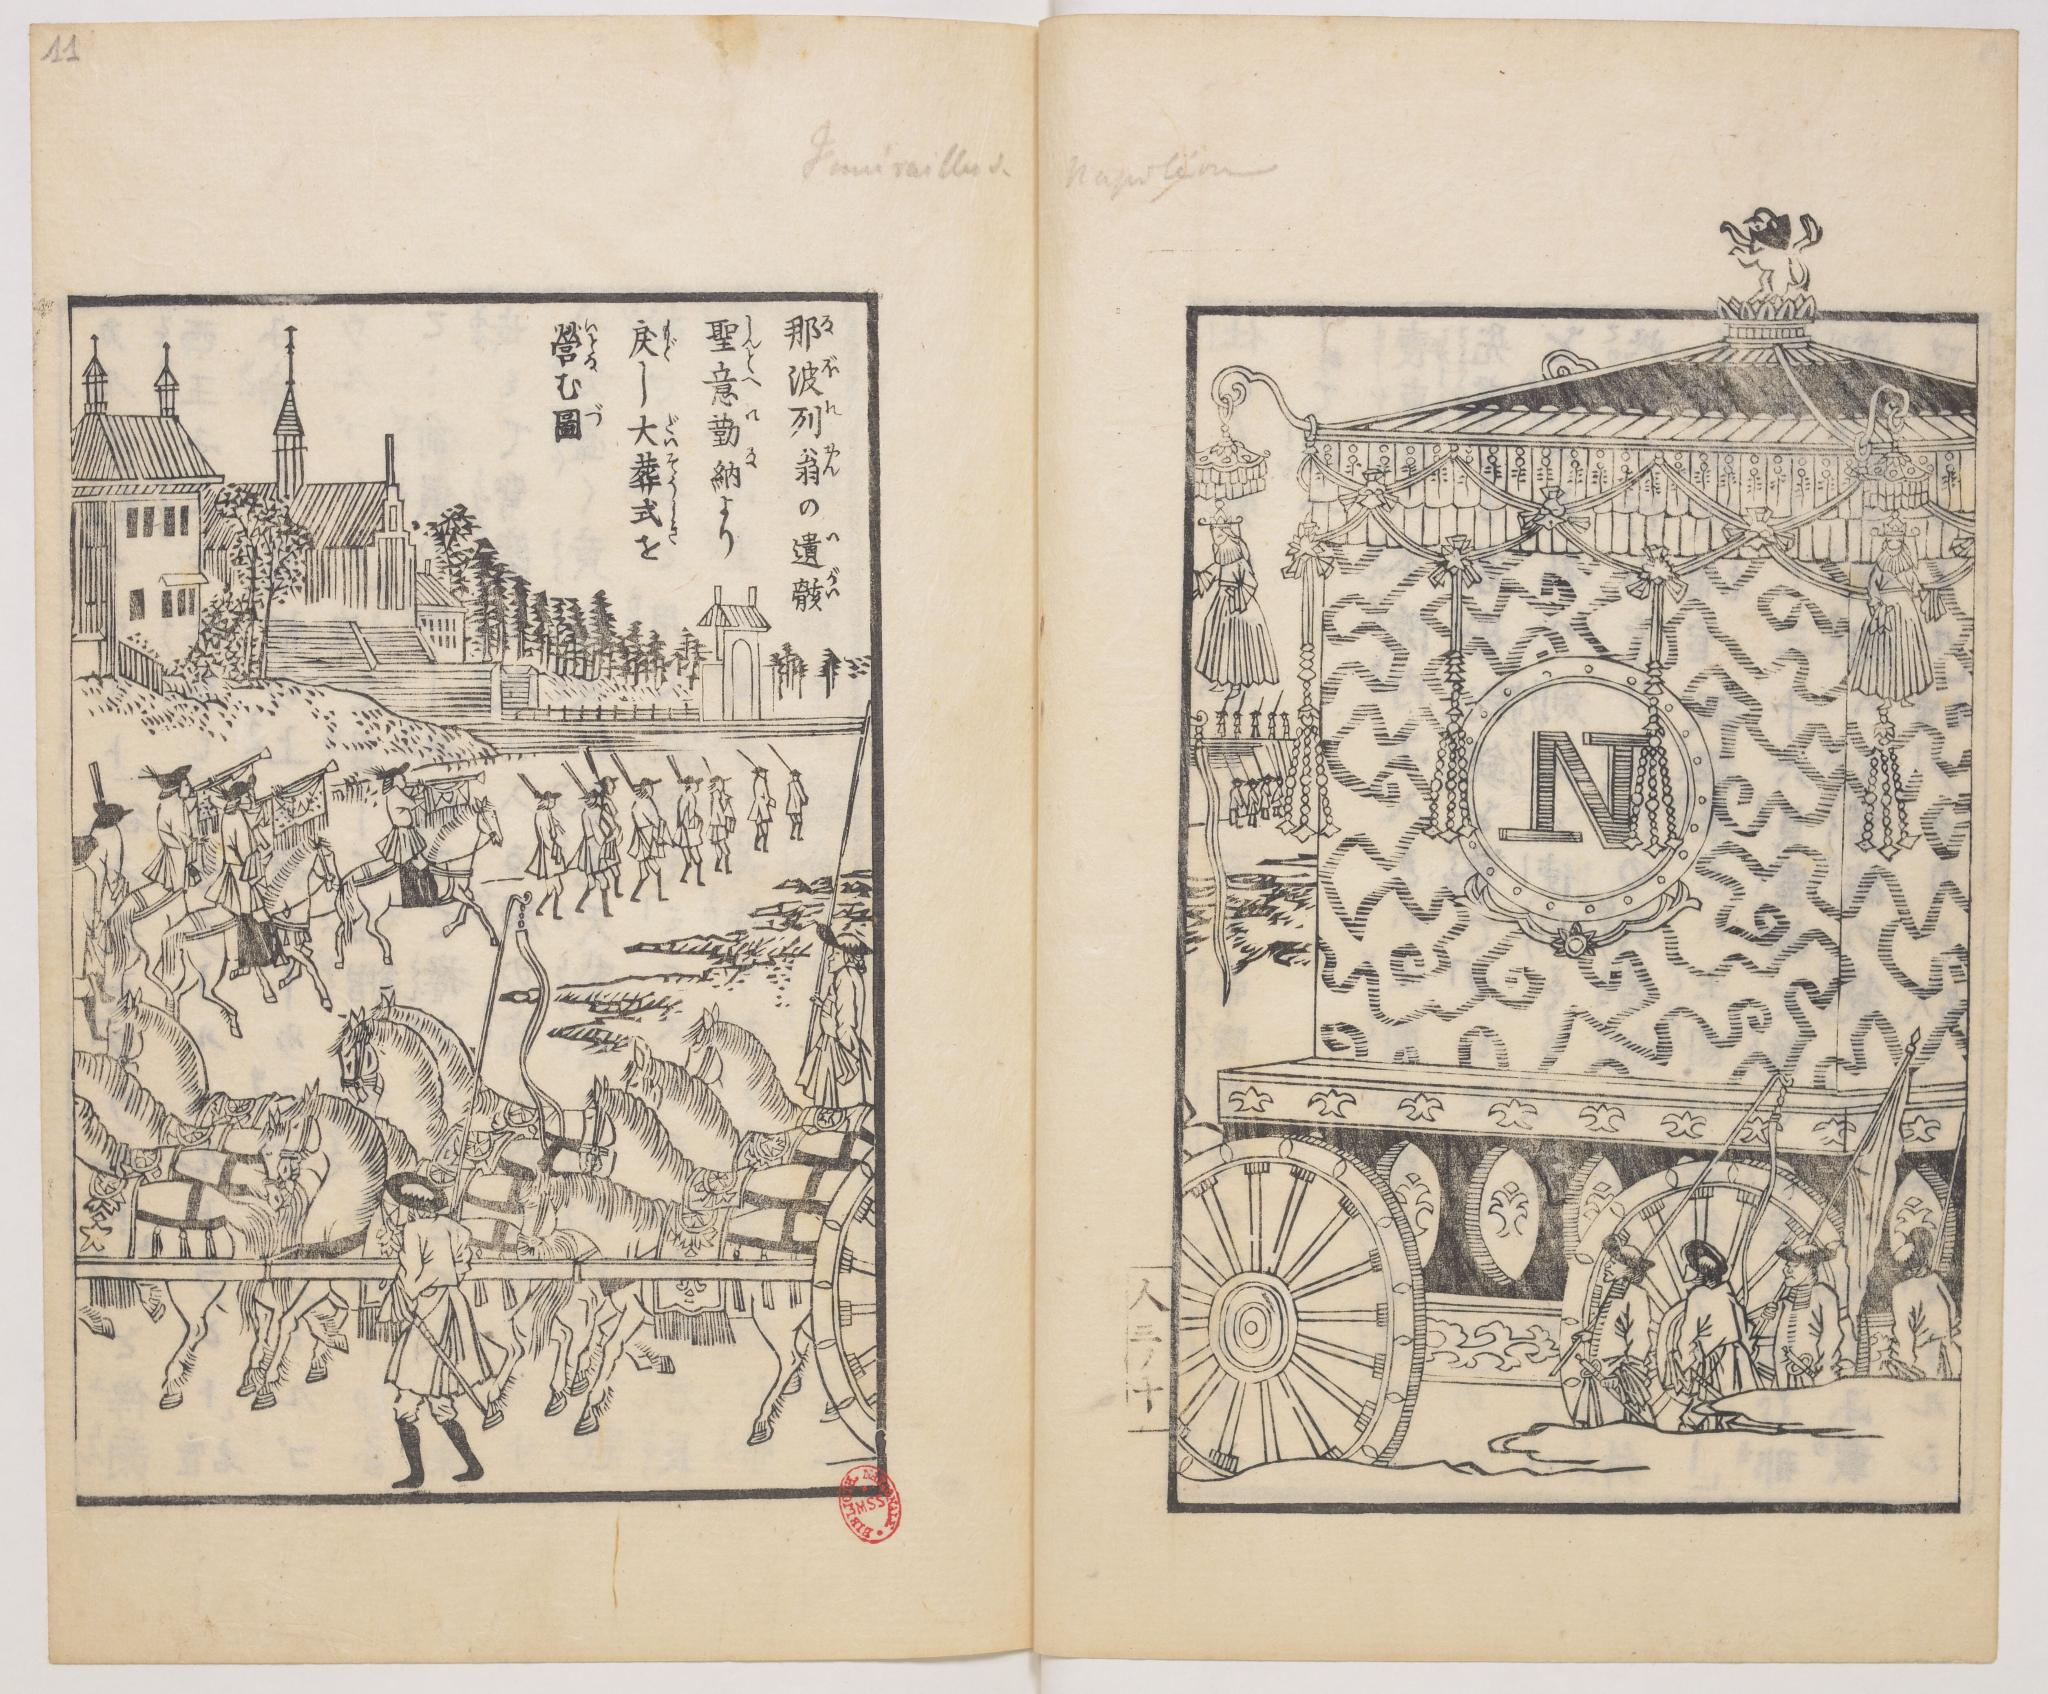MainZone-Character: (779, 566, 849, 616), (697, 316, 765, 366), (786, 435, 847, 488), (776, 355, 844, 400), (699, 362, 764, 408), (628, 498, 684, 551), (548, 320, 602, 371), (701, 447, 760, 493), (786, 527, 844, 571), (546, 403, 606, 446), (782, 311, 837, 354), (623, 318, 679, 359), (626, 408, 684, 447), (631, 452, 682, 497), (704, 408, 760, 447), (784, 400, 840, 435)
MainZone-Ruby: (738, 313, 762, 369), (582, 318, 599, 371), (818, 441, 840, 478), (823, 565, 842, 604), (662, 412, 682, 447), (663, 318, 680, 361), (663, 451, 679, 493), (665, 500, 679, 544), (585, 401, 606, 429), (820, 354, 840, 379), (818, 308, 835, 335), (823, 526, 840, 548), (823, 396, 840, 417), (745, 446, 760, 468), (738, 374, 762, 388), (742, 405, 760, 422)
